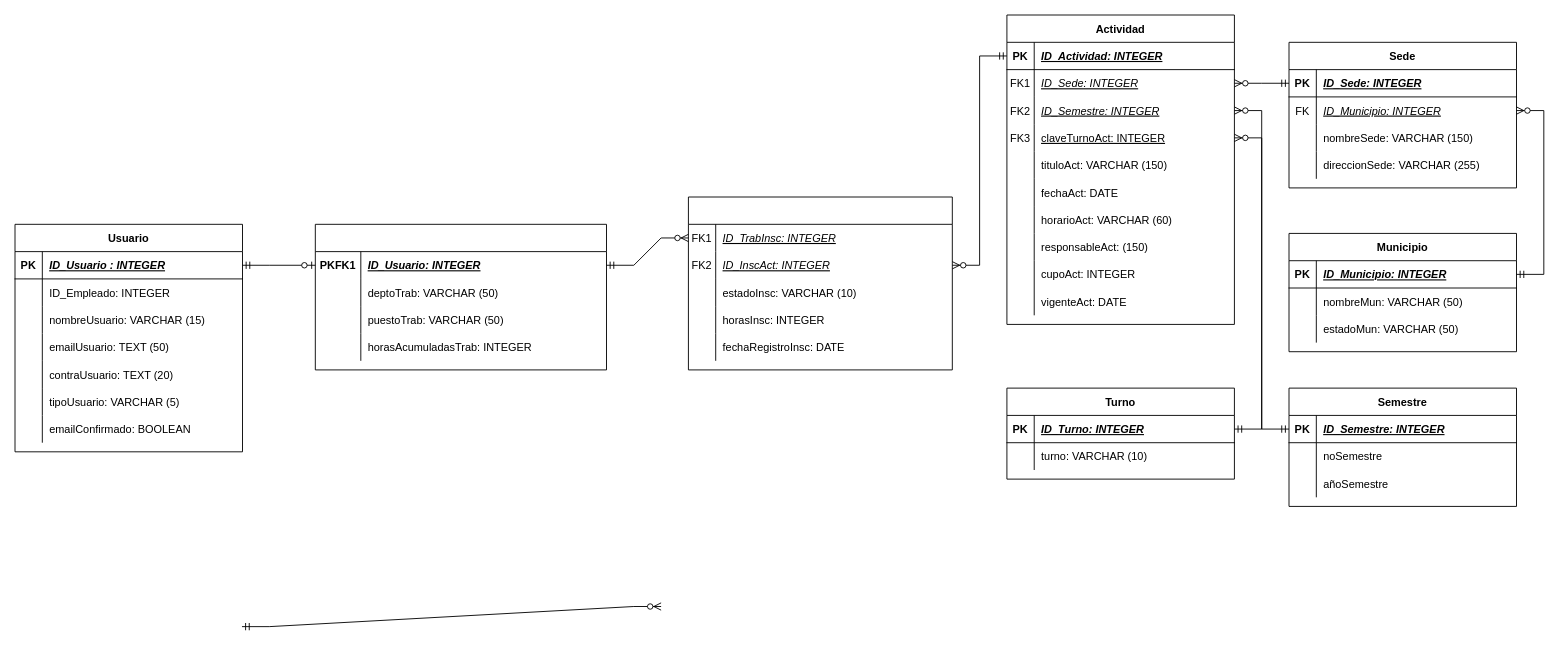
Some shapes in this 1559 by 645 pixel diagram are drawn without their labels. Each missing label, with the box of its shape:
Inscripcion: (688, 196, 952, 370)
Trabajador: (314, 223, 607, 370)
